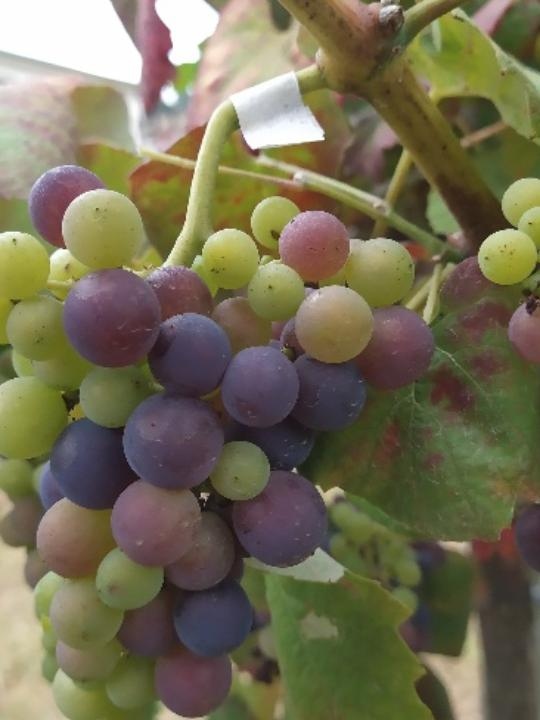grape: (0, 161, 437, 720), (474, 173, 540, 670)
